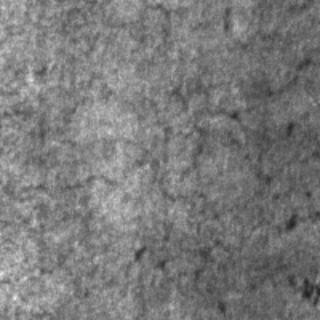crazing: (156, 91, 268, 212), (0, 120, 148, 196)
